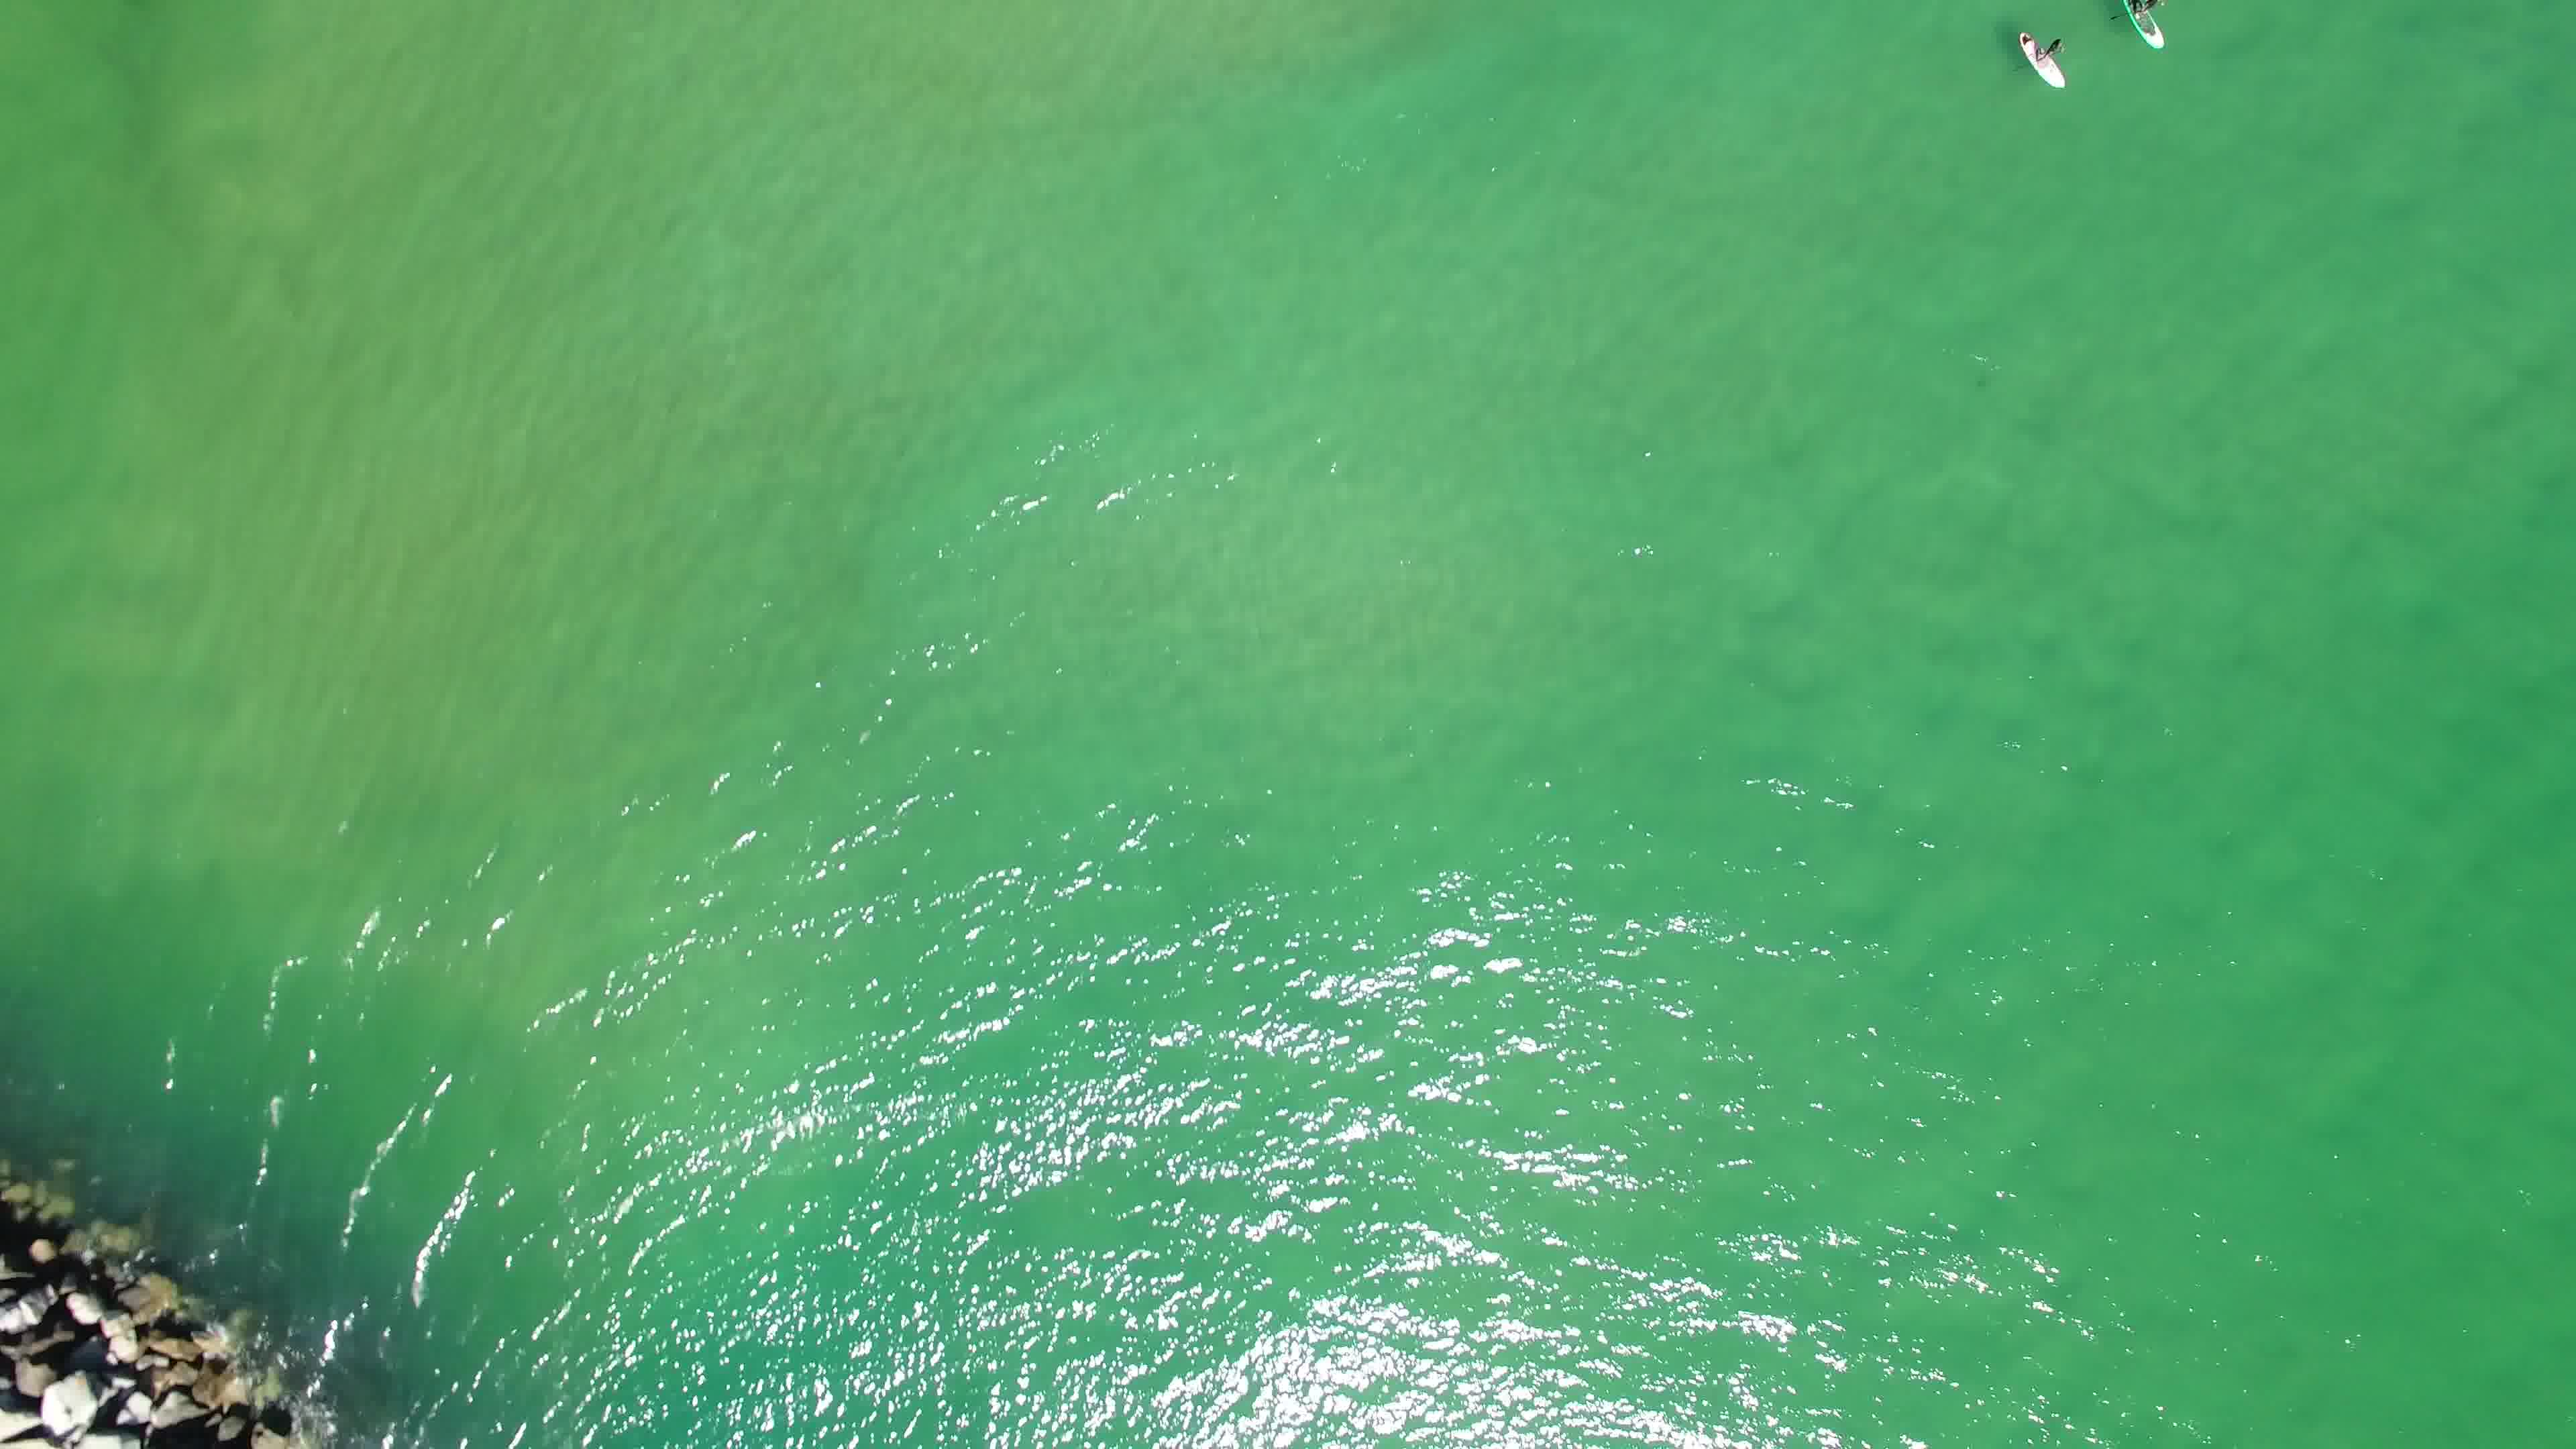surfer: (2010, 27, 2075, 101), (2109, 0, 2176, 51)
